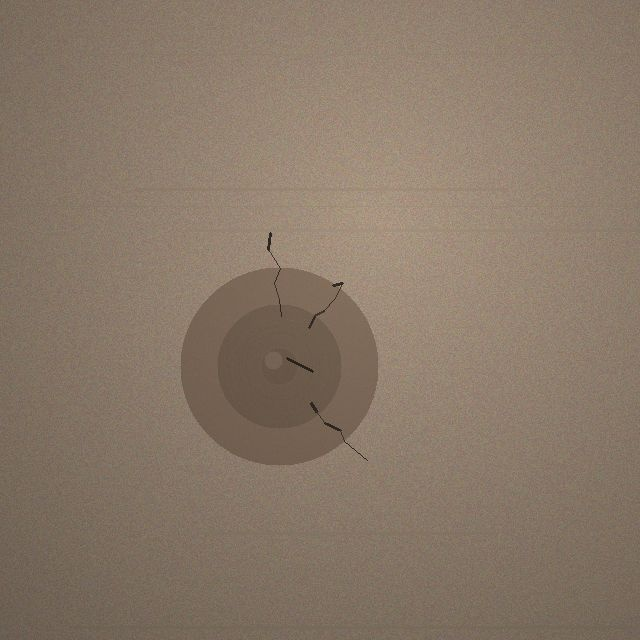crack: (180, 267, 378, 465)
